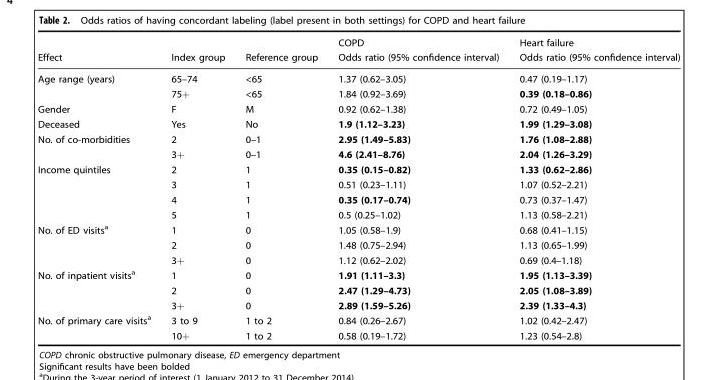table: (37, 36, 679, 340)
table column: (327, 36, 508, 340), (508, 36, 679, 340), (37, 36, 160, 340), (234, 36, 327, 340), (160, 36, 234, 340)
table column header: (37, 36, 679, 67)
table row: (37, 49, 679, 67), (37, 67, 679, 85), (37, 85, 679, 101), (37, 221, 679, 237), (37, 266, 679, 282), (37, 311, 679, 327), (37, 101, 679, 116), (37, 116, 679, 131), (37, 131, 679, 146), (37, 146, 679, 161), (37, 161, 679, 176), (37, 176, 679, 191), (37, 191, 679, 206), (37, 206, 679, 221), (37, 251, 679, 266), (37, 282, 679, 297), (37, 237, 679, 251), (37, 297, 679, 311), (37, 36, 679, 49), (37, 327, 679, 340)
table spanning cell: (37, 161, 160, 221), (327, 36, 508, 67), (37, 221, 160, 266), (37, 266, 160, 311), (508, 36, 679, 67), (37, 67, 160, 101), (37, 36, 160, 67), (37, 131, 160, 161), (37, 311, 160, 340), (234, 36, 327, 67), (160, 36, 234, 67)
